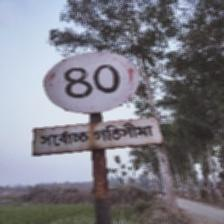Speed-limit: (33, 50, 160, 158)
